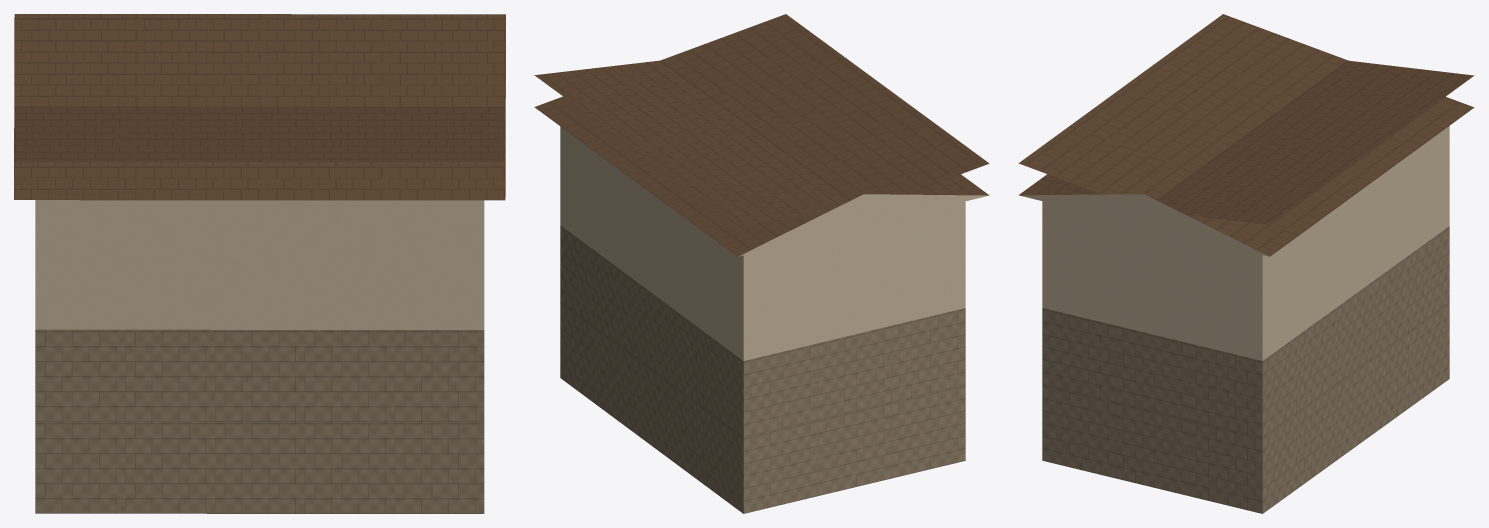
The model's file is bld_c31_43_255.gltf.
3 views of the same model, side by side, from view 1: azimuth 30°, elevation 25°; view 2: azimuth 150°, elevation 25°; view 3: azimuth 270°, elevation 25° (orthographic). The views are drawn at different scales.
Visible parts, largest first — view 1: bld_c31_43_255; view 2: bld_c31_43_255; view 3: bld_c31_43_255.
Part boxes in pixels (x1=…): bld_c31_43_255: x1=14, y1=14, x2=505, y2=513; bld_c31_43_255: x1=534, y1=14, x2=989, y2=513; bld_c31_43_255: x1=1018, y1=14, x2=1474, y2=513.
Size of the model in its own units: 14.17 by 9.4 by 12.95.
Materials: 4 (4 with a texture image).
